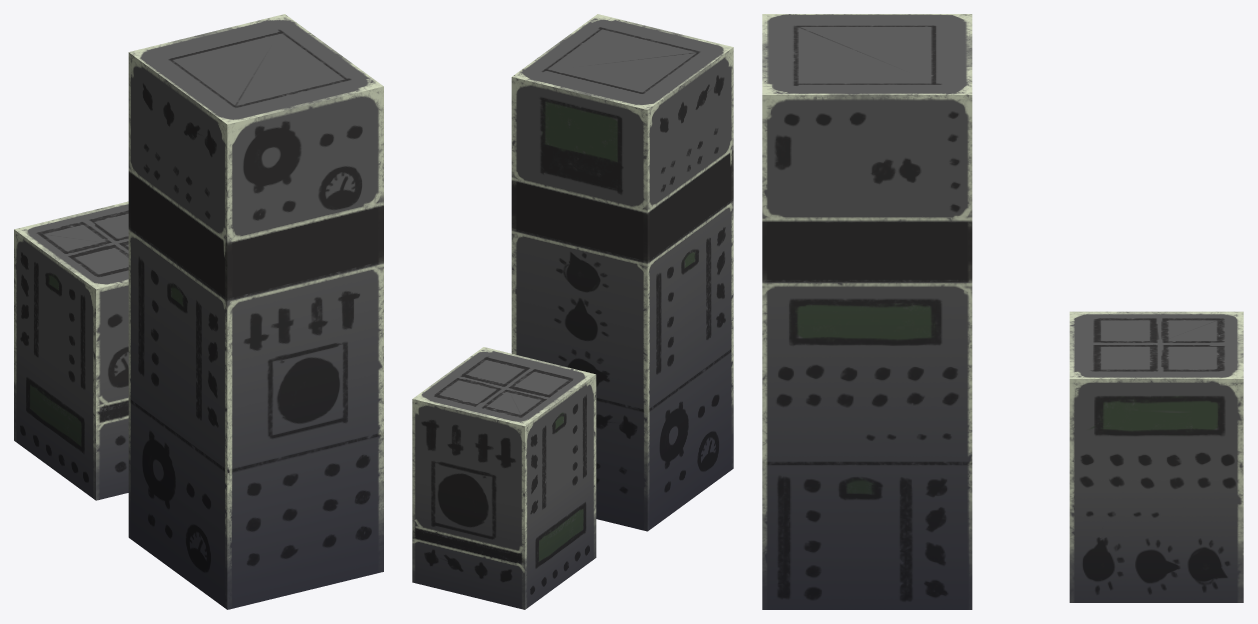
File: TechEquipment.fbx
The picture shows the model from 3 angles, left to right: view 1: azimuth 30°, elevation 25°; view 2: azimuth 150°, elevation 25°; view 3: azimuth 270°, elevation 25°; orthographic projection. The views are drawn at different scales.
Parts seen in each view (by area): view 1: Tech_tower_02_mesh, Tech_Tower_01_mesh; view 2: Tech_tower_02_mesh, Tech_Tower_01_mesh; view 3: Tech_tower_02_mesh, Tech_Tower_01_mesh.
Boxes of the visible parts, bbox=[...] form: Tech_tower_02_mesh: bbox=[128, 14, 383, 609]; Tech_Tower_01_mesh: bbox=[14, 201, 128, 500]; Tech_tower_02_mesh: bbox=[511, 14, 733, 531]; Tech_Tower_01_mesh: bbox=[412, 347, 596, 609]; Tech_tower_02_mesh: bbox=[762, 14, 972, 609]; Tech_Tower_01_mesh: bbox=[1069, 311, 1243, 602].
Size of the model in its own units: 1.59 by 4.71 by 3.99.
